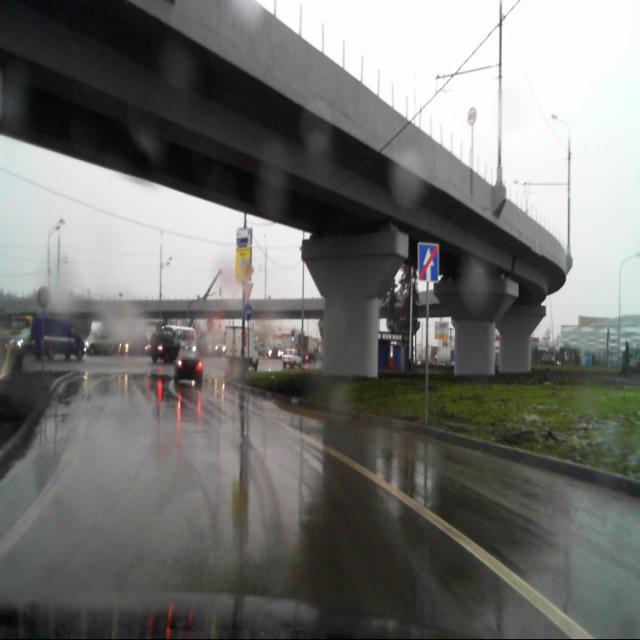road sign: (418, 243, 439, 281)
